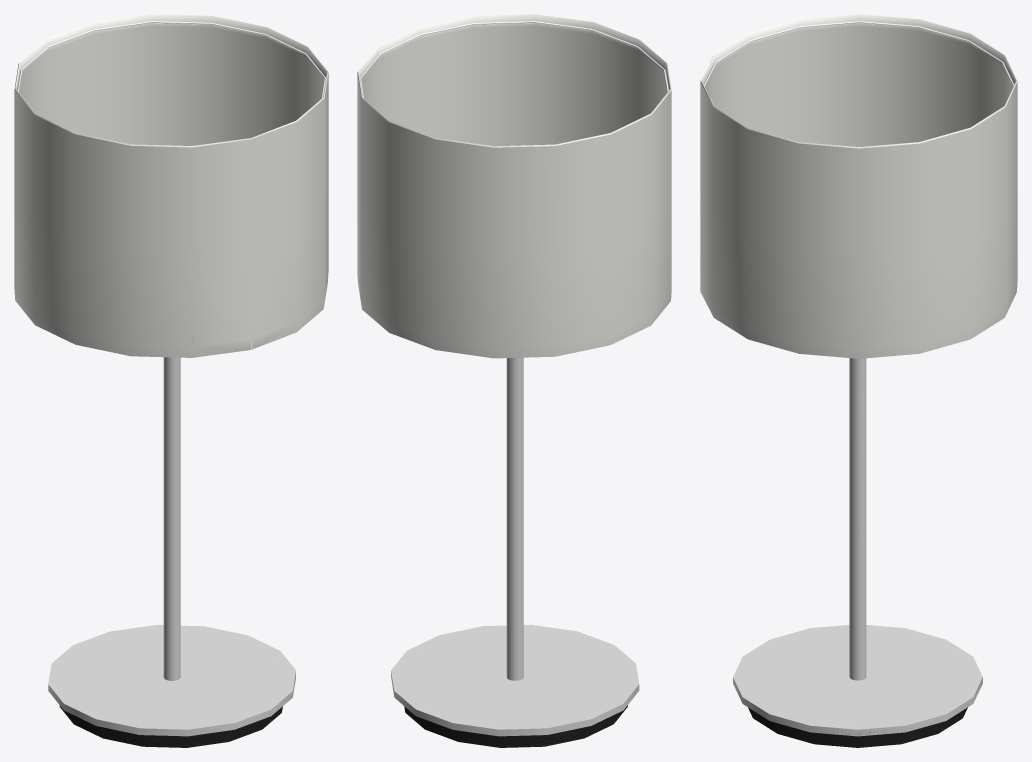
The model's file is ringsta_skaftet_lampa_stoowa_89385952.glb.
3 views of the same model, side by side, from view 1: azimuth 30°, elevation 25°; view 2: azimuth 150°, elevation 25°; view 3: azimuth 270°, elevation 25° (orthographic).
Parts seen in each view (by area): view 1: ringsta_skaftet_lampa_stoowa_89385952; view 2: ringsta_skaftet_lampa_stoowa_89385952; view 3: ringsta_skaftet_lampa_stoowa_89385952.
Boxes of the visible parts, x1,y1,x2,y2 form: ringsta_skaftet_lampa_stoowa_89385952: [14, 14, 328, 747]; ringsta_skaftet_lampa_stoowa_89385952: [357, 14, 671, 747]; ringsta_skaftet_lampa_stoowa_89385952: [700, 14, 1017, 747].
Bounding box in the file's own units: 0.1899 × 0.41 × 0.1903.
1 material, 1 textured.
